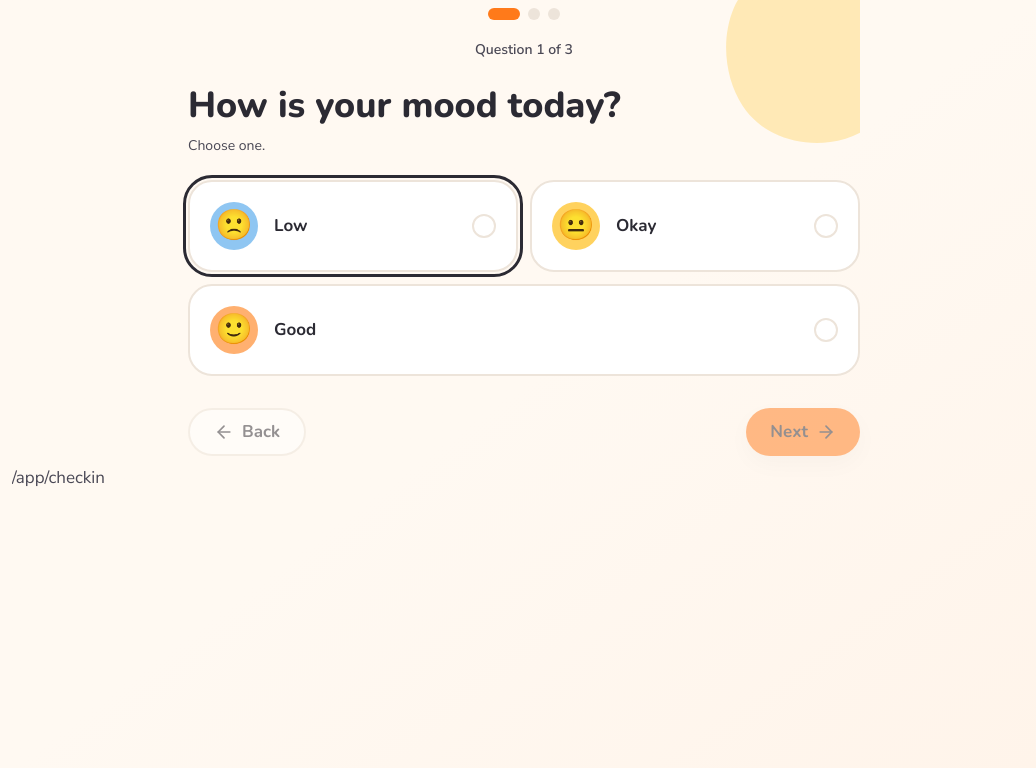
Test: Check-in flow › reaches the review screen, lets you skip the optional question, and sends the right answers
The image size is (1036, 768).
What coordinates should you click on to do the following:
click the radio button labelled "Good"
I would click on:
 (234, 330)
Its box is [188,284,860,376].
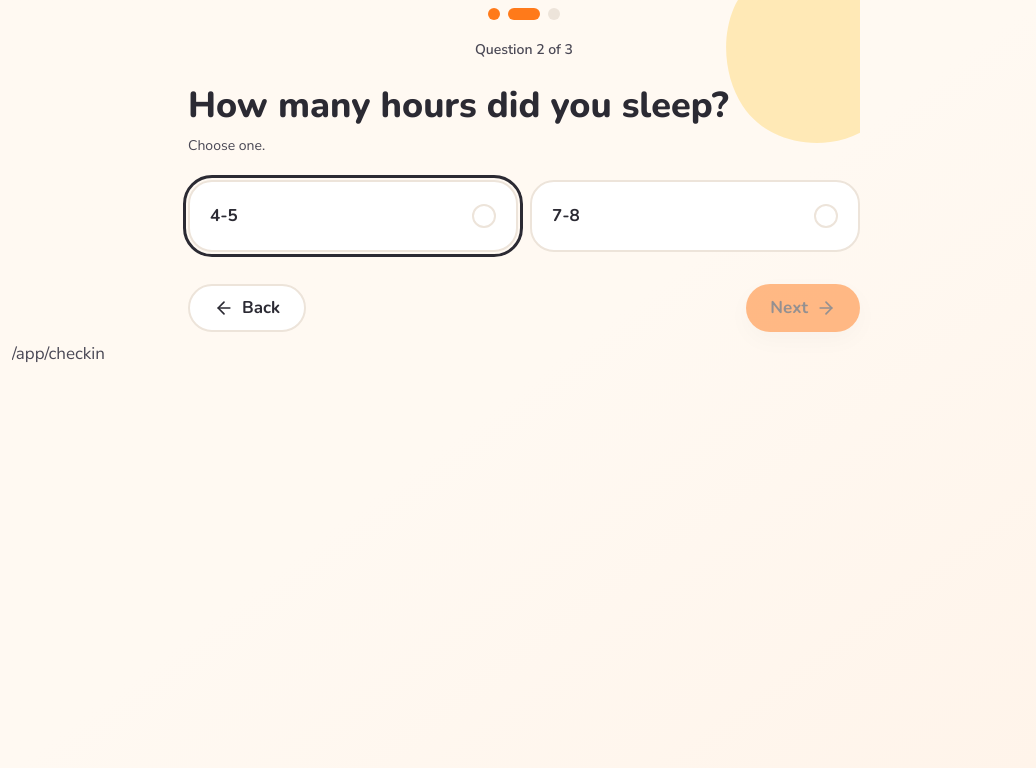
Result: the text "Question 2 of 3" is shown at [475,40,573,59]
What coordinates should you click on to do the following:
click the radio button labelled "7-8"
I would click on:
 (566, 216)
Its box is [530,180,860,252].
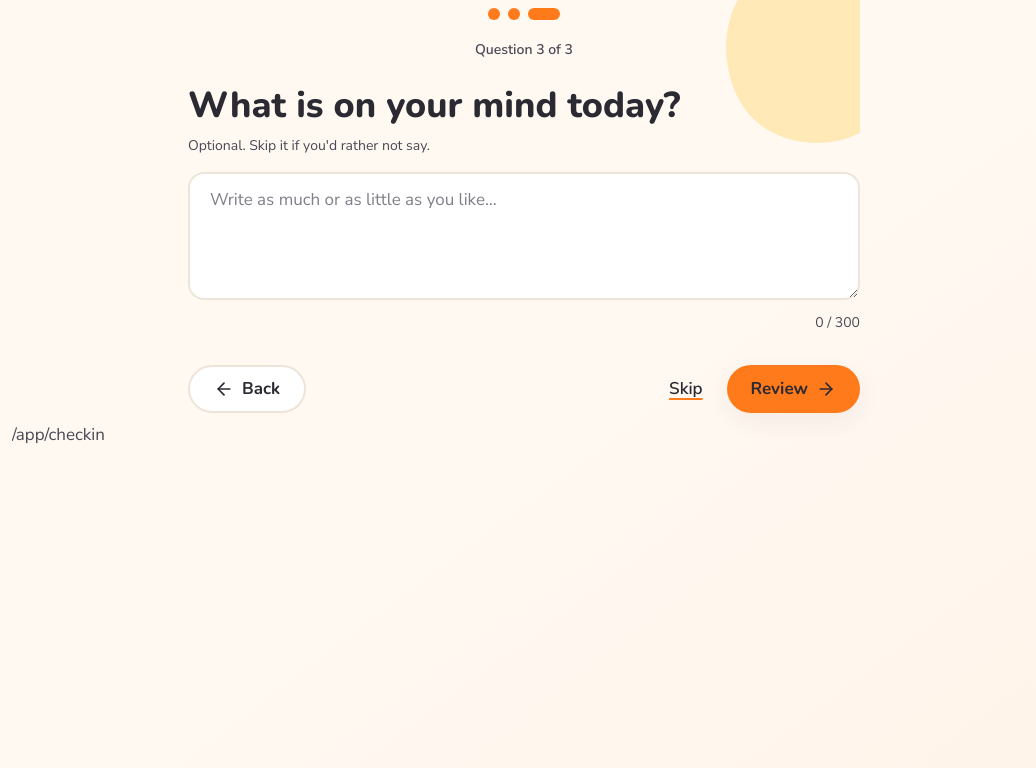
Result: the text "Question 3 of 3" is shown at [475,40,573,59]
What coordinates should you click on to do the following:
click the button "Skip"
I would click on:
 (686, 389)
Its box is [661,371,711,407].
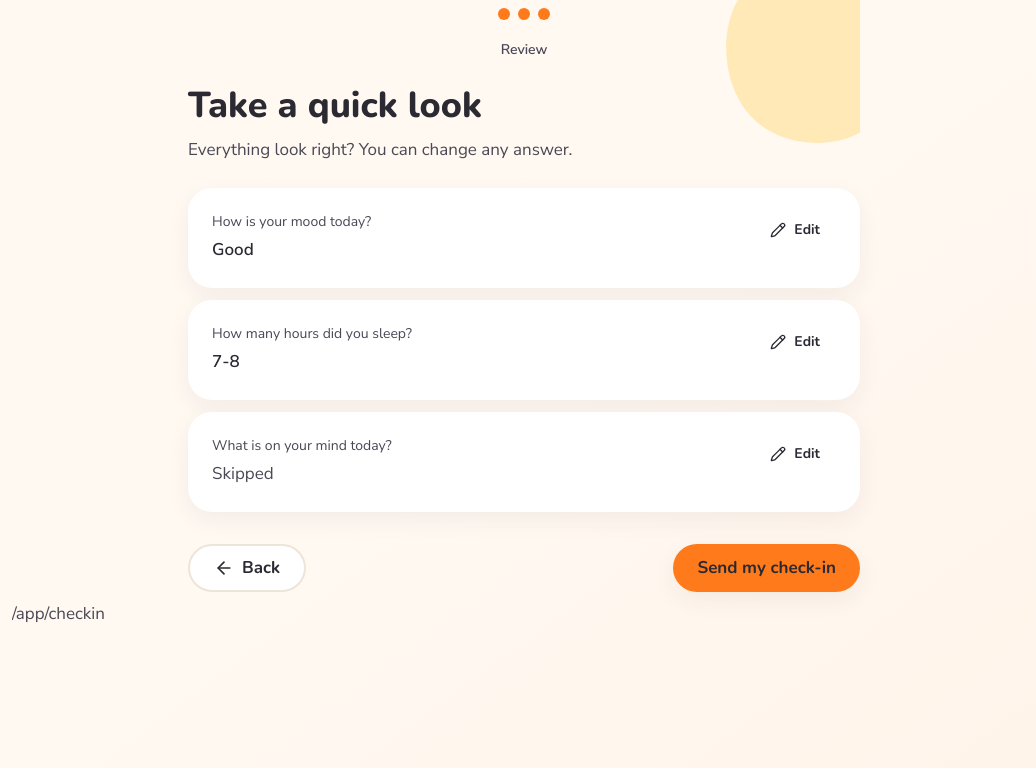
Result: the heading "Take a quick look" is shown at [188,81,482,130]
Result: the text "Good" is shown at [212,238,254,261]
Result: the text "7-8" is shown at [212,350,240,373]
What coordinates should you click on to do the following:
click the button "Send my check-in"
I would click on:
 (767, 568)
Its box is [673,544,860,592].
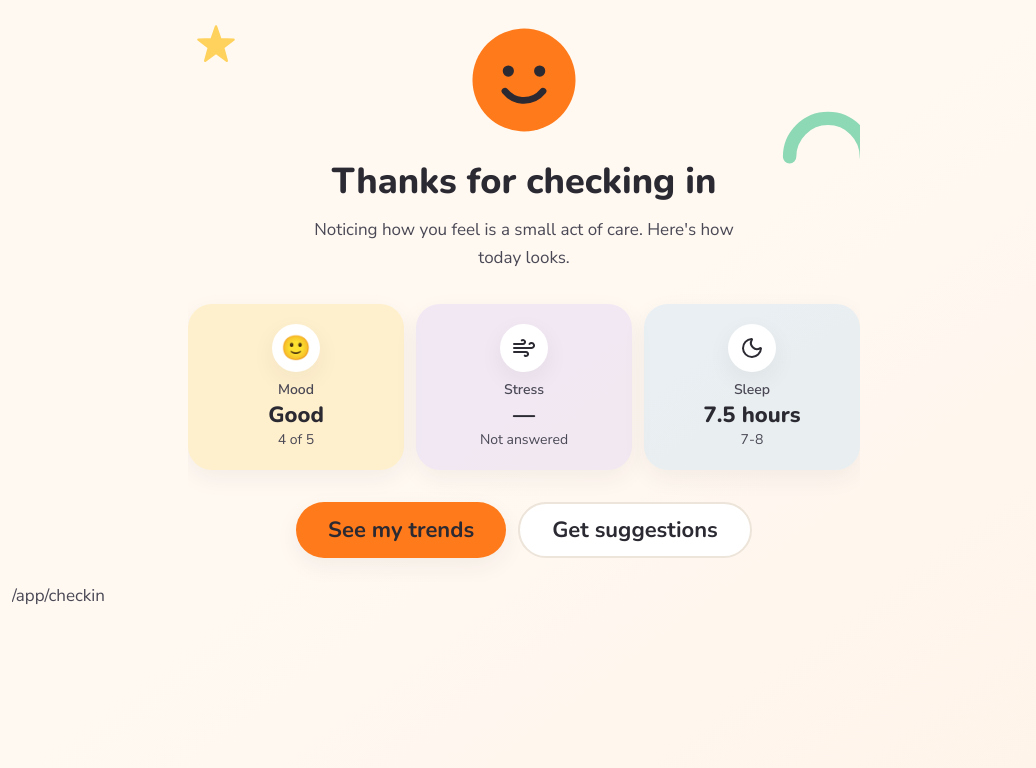
Expected: the text with test id "location" reads "/app/checkin", [12,584,105,607]
Result: the heading "Thanks for checking in" is shown at [332,157,716,206]
